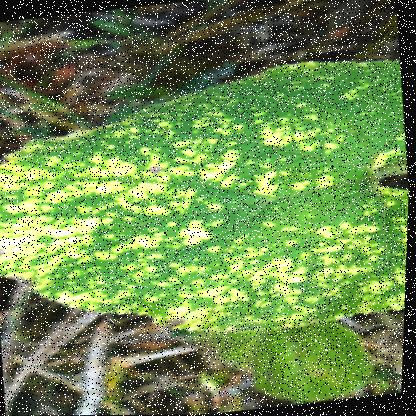DownyMildew: (99, 75, 374, 214), (0, 141, 246, 272), (0, 119, 162, 272), (134, 219, 296, 338), (280, 187, 410, 322), (3, 239, 137, 301)
